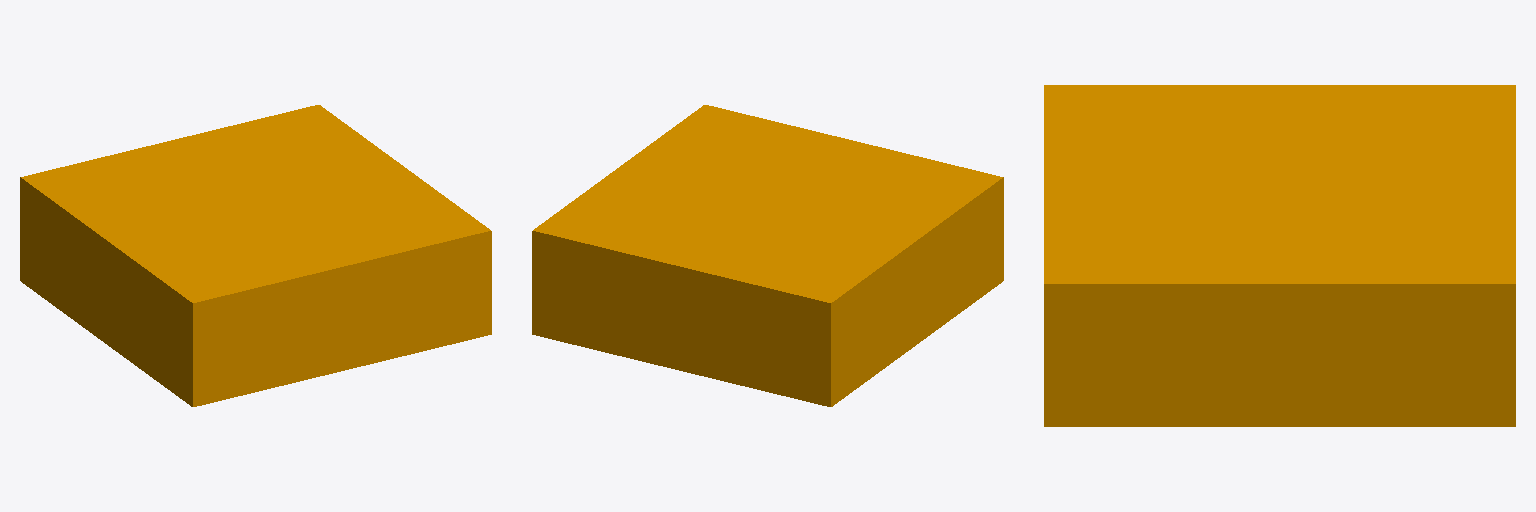
robot.urdf — object:
<?xml version="0.0"?>
	<robot name="object">
		<link name="object">
			<visual>
				<origin xyz="0 0 0"/>
				<geometry>
					<box size="0.6 0.6 0.2"/>
				</geometry>
			</visual>
			<inertial>
				<mass value="7.200"/>
			</inertial>
			<collision>
				<origin xyz="0 0 0"/>
				<geometry>
					<box size="0.6 0.6 0.2"/>
				</geometry>
			</collision>
		</link>

	</robot>

--- Render facts (derived) ---
3 views of the same robot in one strip: view 1: azimuth 30°, elevation 25°; view 2: azimuth 150°, elevation 25°; view 3: azimuth 270°, elevation 25° (orthographic).
Model object with 1 links and 0 joints (none), rooted at object, posed every joint at zero.
Links seen in each view (by area): view 1: object; view 2: object; view 3: object.
Link boxes in pixels (box(x1,y1,x2,y2)): object: box(20, 105, 491, 406); object: box(532, 105, 1003, 406); object: box(1044, 85, 1515, 426).
Size in the robot's own frame: 0.6 by 0.6 by 0.2 metres.
Geometry: primitives only (box / cylinder / sphere), no mesh files.